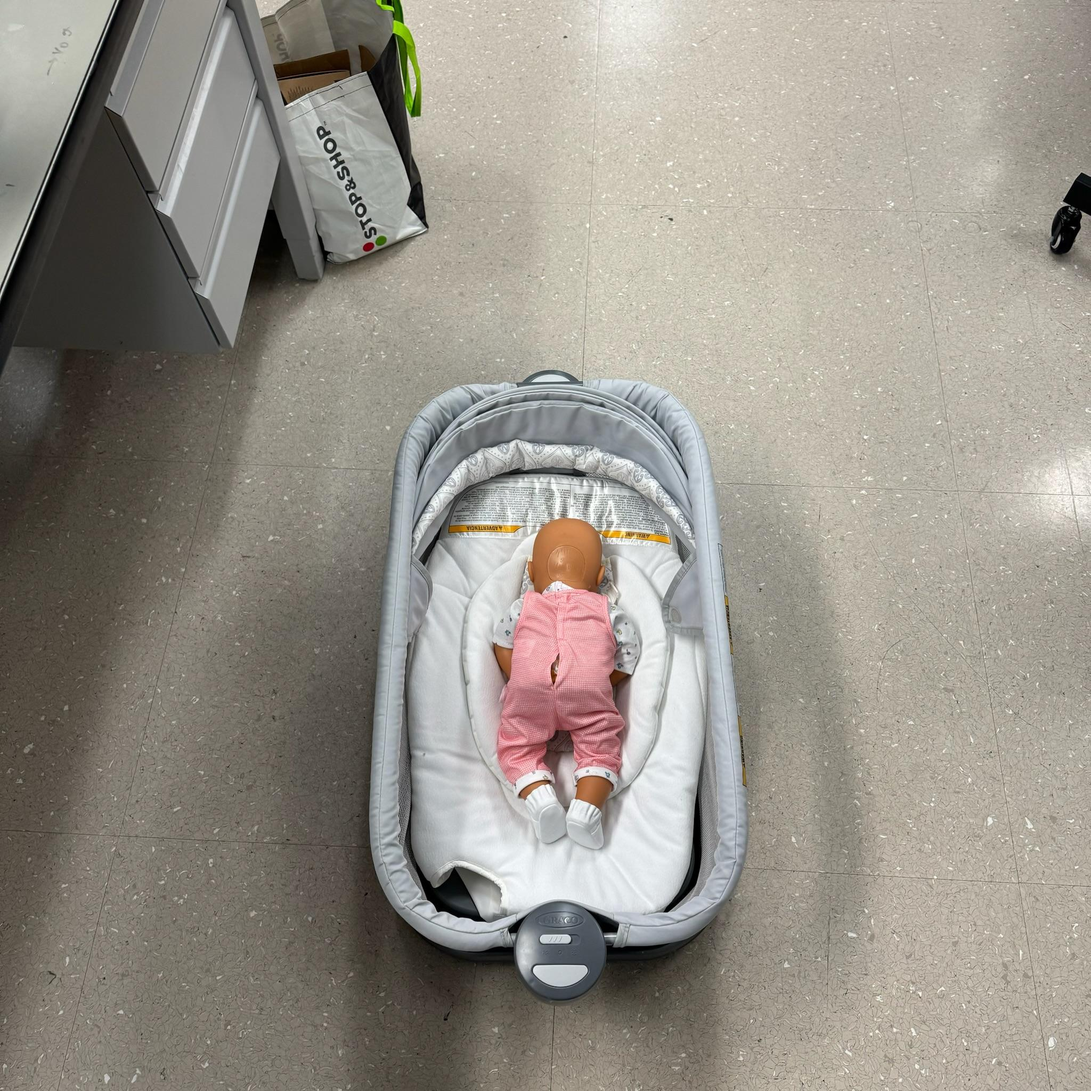baby: (477, 503, 656, 858)
